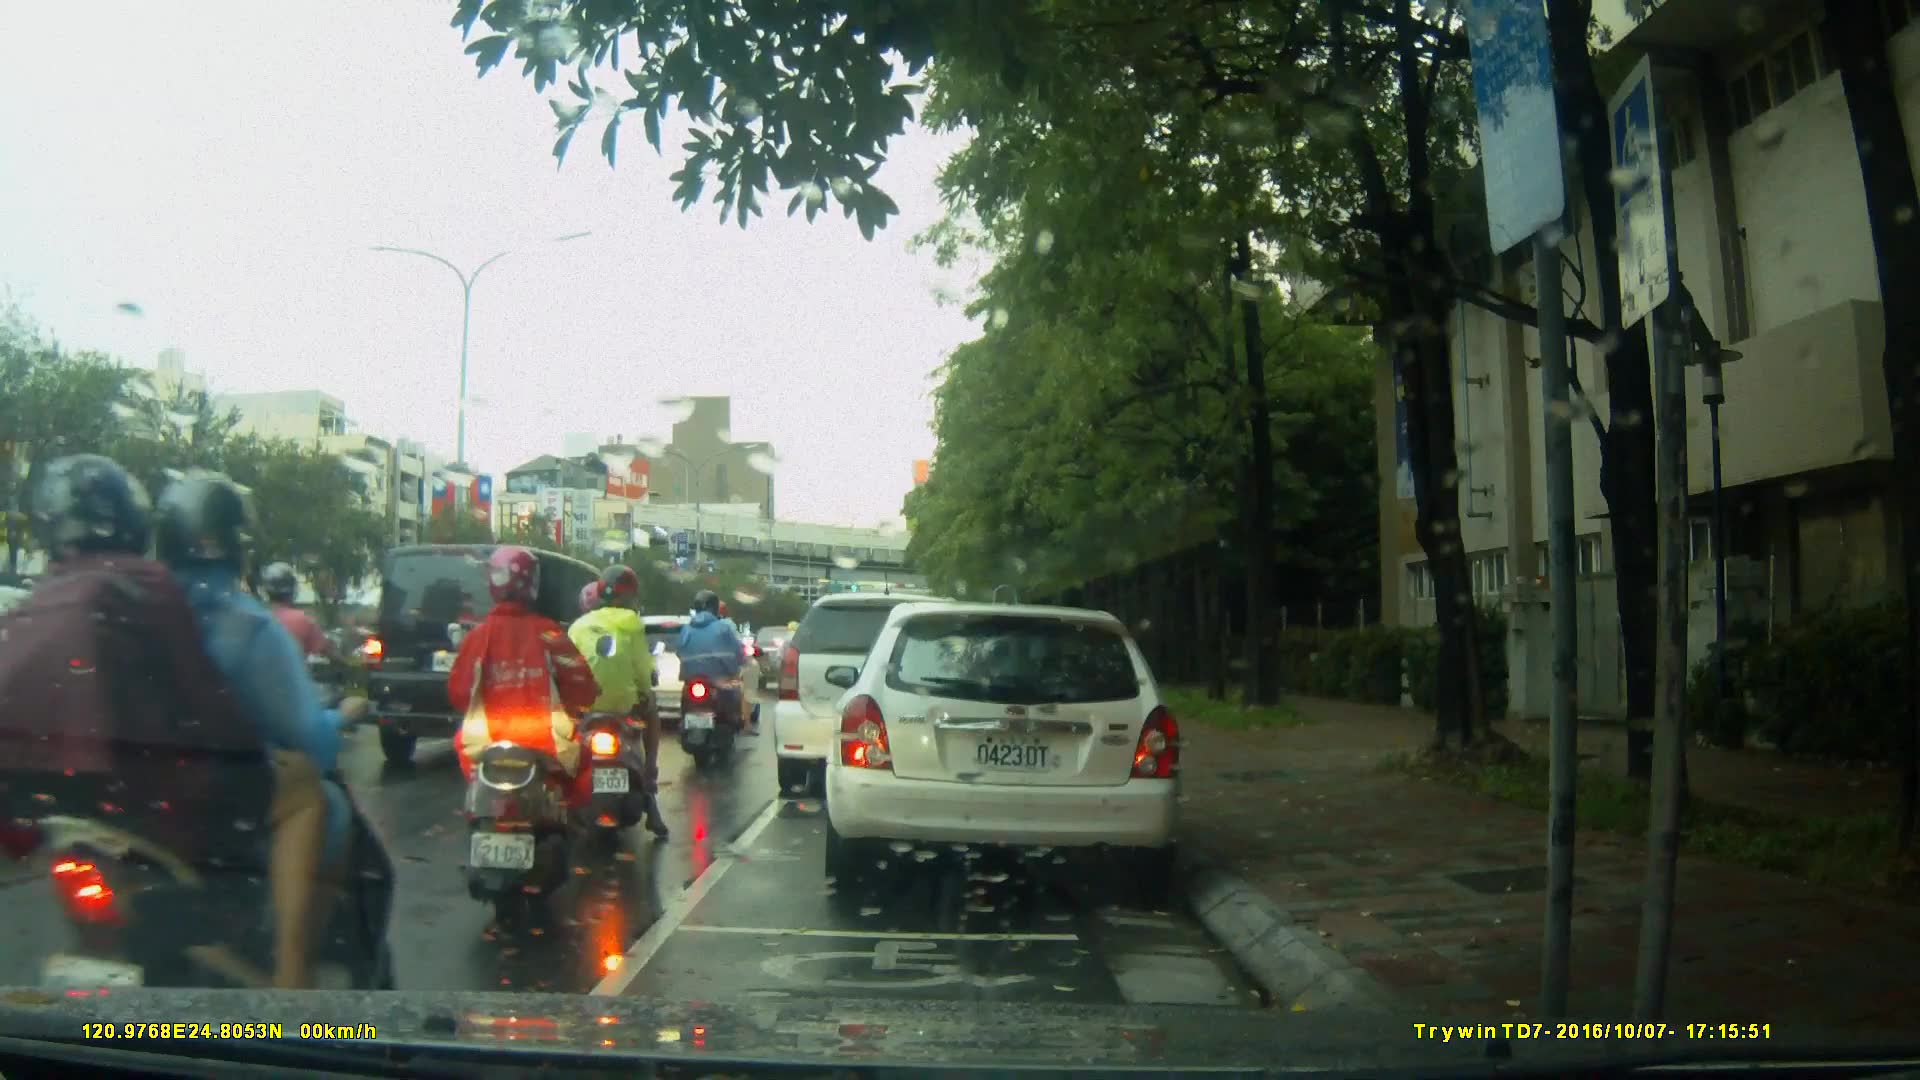rider: (2, 461, 379, 1042), (449, 543, 608, 933), (186, 560, 359, 822), (564, 566, 683, 847), (581, 594, 662, 817), (673, 591, 752, 762), (700, 600, 758, 738)
vehicle: (822, 604, 1188, 883), (362, 541, 647, 771), (774, 595, 995, 802)
